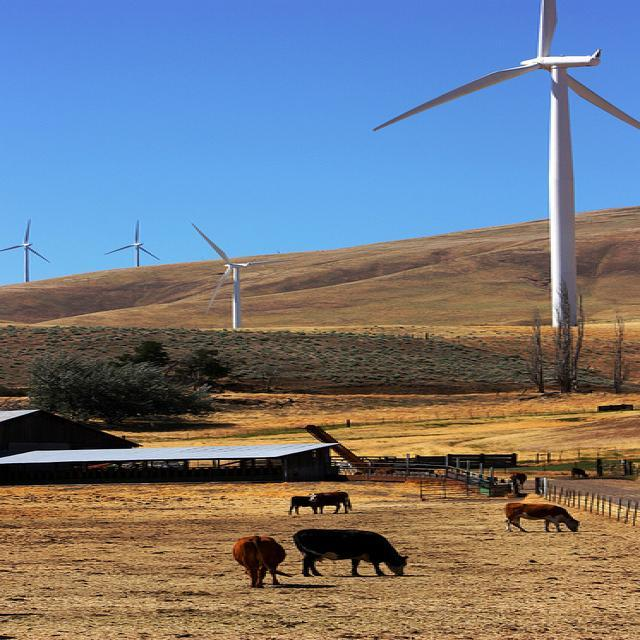cow: (290, 527, 407, 576), (230, 533, 285, 587), (505, 501, 579, 532), (307, 490, 348, 512), (289, 495, 318, 514), (506, 471, 525, 488), (568, 465, 588, 477)
